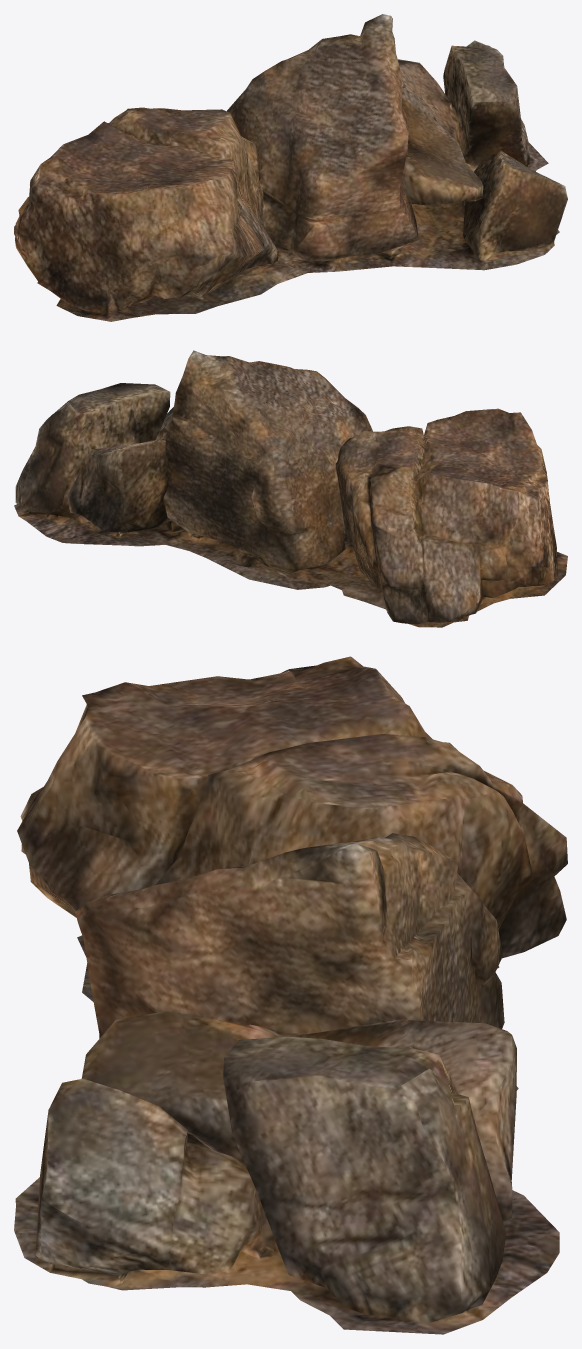
File: boulder2.glb
3 views of the same model, one above another, from view 1: azimuth 30°, elevation 25°; view 2: azimuth 150°, elevation 25°; view 3: azimuth 270°, elevation 25° (orthographic). The views are drawn at different scales.
Visible parts, largest first — view 1: boulder_02; view 2: boulder_02; view 3: boulder_02.
Boxes of the visible parts, bbox=[...] form: boulder_02: bbox=[14, 14, 567, 321]; boulder_02: bbox=[14, 350, 567, 627]; boulder_02: bbox=[14, 656, 567, 1334].
Size of the model in its own units: 2.51 by 0.8804 by 1.23.
1 material, 1 textured.
